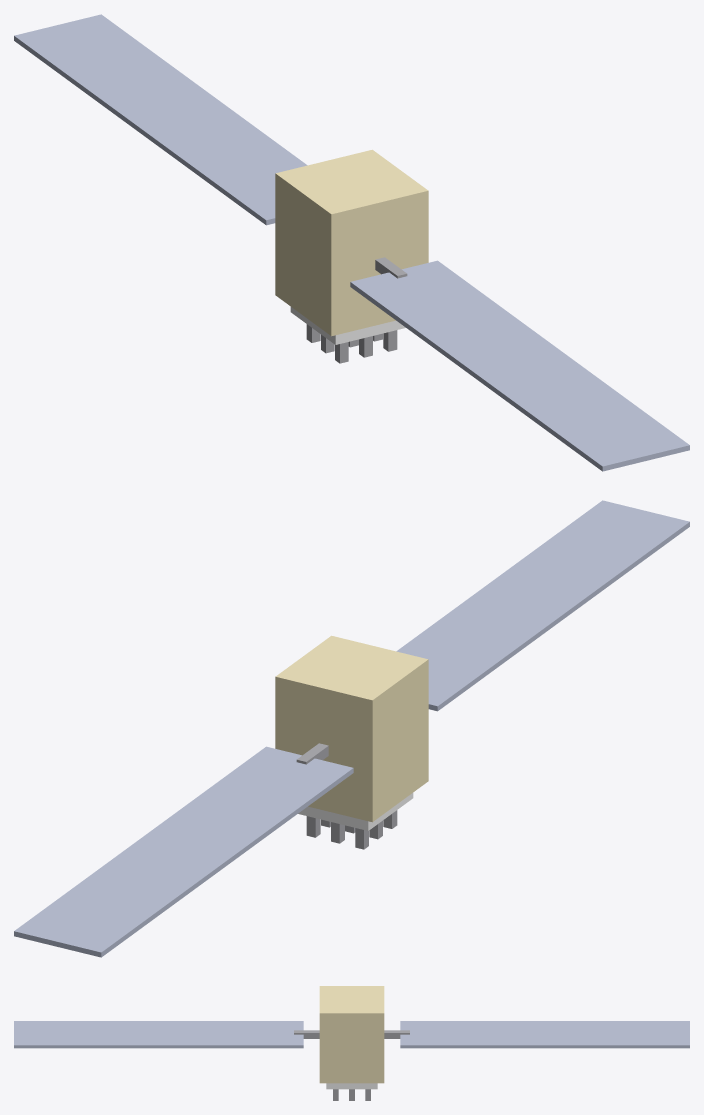
File: gps.glb
3 renders of one model, top to bottom at view 1: azimuth 30°, elevation 25°; view 2: azimuth 150°, elevation 25°; view 3: azimuth 270°, elevation 25°, orthographic. The views are drawn at different scales.
Visible parts, largest first — view 1: gps; view 2: gps; view 3: gps.
Boxes of the visible parts, box(x1,y1,x2,y2) form: gps: box(14, 14, 689, 471); gps: box(14, 500, 689, 957); gps: box(14, 986, 689, 1100).
Bounding box in the file's own units: 2 × 3.2 × 21.
